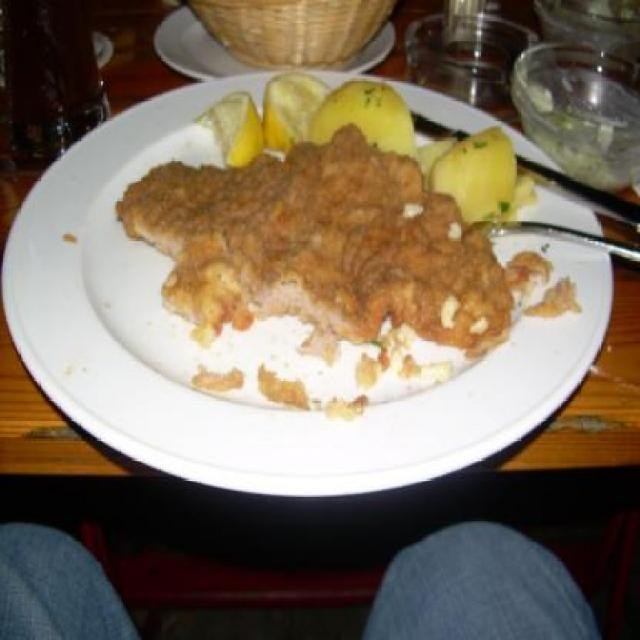Lemon: (431, 124, 518, 239), (314, 82, 414, 152), (199, 89, 267, 166), (264, 73, 330, 144)
